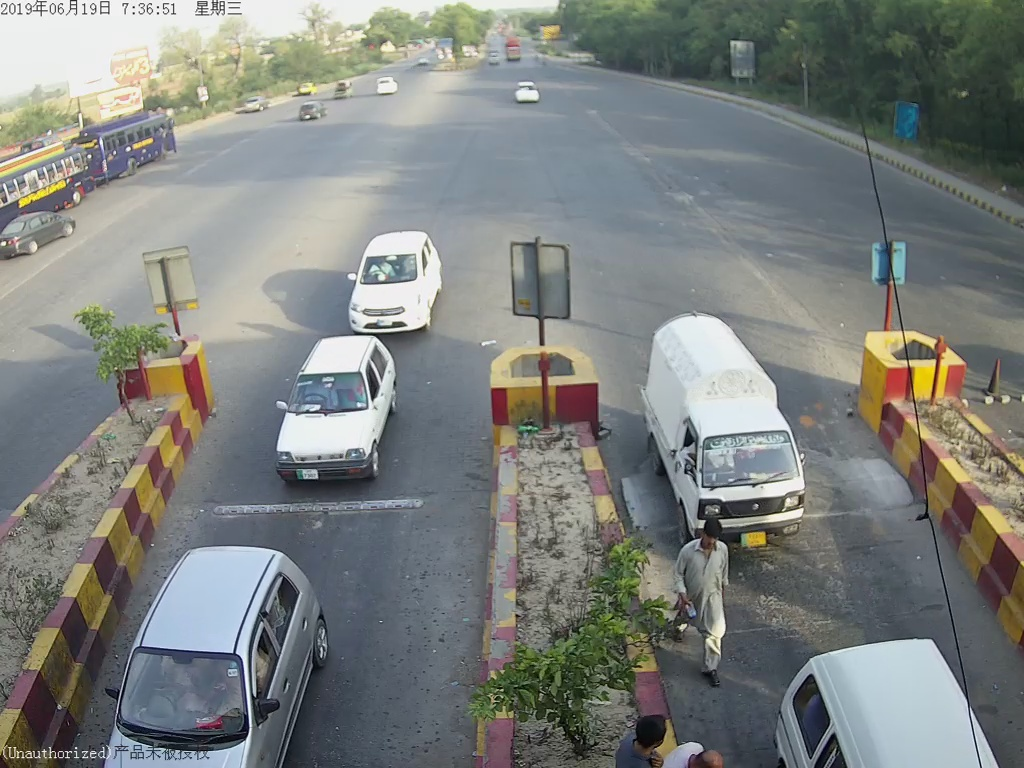Cat-1: (119, 541, 335, 768), (640, 306, 809, 544), (281, 331, 402, 486), (340, 230, 451, 334), (509, 76, 544, 104)
